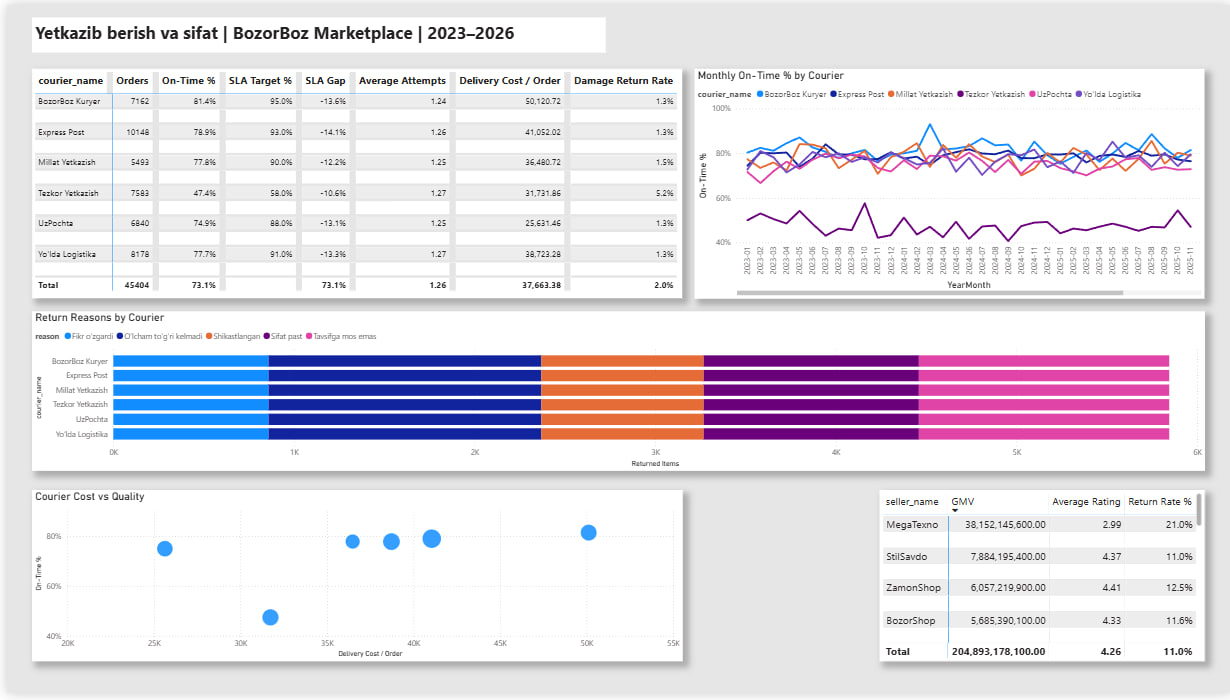

This screenshot's page, from the dashboard's own definition file:
{"tool":"powerbi","page":{"name":"Yetkazib berish va sifat","canvas":[1920,1080],"ordinal":3},"visuals":[{"type":"textbox","box":[40,20,900,55],"z":0},{"type":"pivotTable","fields":{"Values":["BB_Measures.Orders","BB_Measures.On-Time %","BB_Measures.SLA Target %","BB_Measures.SLA Gap","BB_Measures.Average Attempts","BB_Measures.Delivery Cost / Order","BB_Measures.Damage Return Rate"],"Rows":["dim_courier.courier_name"]},"box":[40,100,1020,360],"z":1000},{"type":"lineChart","title":"Monthly On-Time % by Courier","fields":{"Category":["dim_date.YearMonth"],"Y":["BB_Measures.On-Time %"],"Series":["dim_courier.courier_name"]},"box":[1079.2,100,800,360.4],"z":2000},{"type":"barChart","title":"Return Reasons by Courier","fields":{"Category":["dim_courier.courier_name"],"Y":["BB_Measures.Returned Items"],"Series":["fact_return.reason"]},"box":[40,480,1840,250],"z":3000},{"type":"scatterChart","title":"Courier Cost vs Quality","fields":{"X":["BB_Measures.Delivery Cost / Order"],"Y":["BB_Measures.On-Time %"],"Size":["BB_Measures.Orders"],"Category":["dim_courier.courier_name"]},"box":[39.6,760.4,1020.8,268.8],"z":4000},{"type":"pivotTable","fields":{"Rows":["dim_seller.seller_name"],"Values":["BB_Measures.GMV","BB_Measures.Average Rating","BB_Measures.Return Rate %"]},"box":[1368.8,760.4,510.4,268.8],"z":5000}]}

Visuals, with their boxes in screenshot pixels (x1, y1, x2, y2), scaled from the page's 1920x1080 canvas onto the 1230x700 screenshot:
textbox: <bbox>26, 13, 602, 49</bbox>
pivotTable - BB_Measures.Orders x BB_Measures.On-Time %: <bbox>26, 65, 679, 298</bbox>
"Monthly On-Time % by Courier" lineChart: <bbox>691, 65, 1204, 298</bbox>
"Return Reasons by Courier" barChart: <bbox>26, 311, 1204, 473</bbox>
"Courier Cost vs Quality" scatterChart: <bbox>25, 493, 679, 667</bbox>
pivotTable - dim_seller.seller_name x BB_Measures.GMV: <bbox>877, 493, 1204, 667</bbox>
